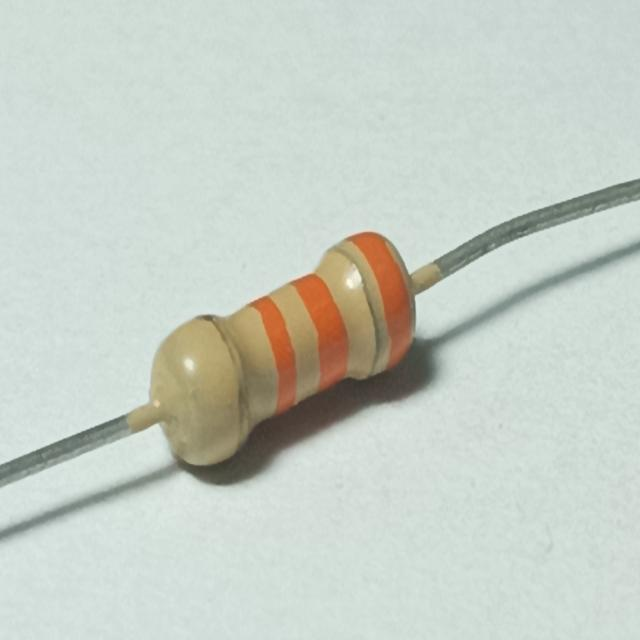33k ohms: (121, 212, 427, 486)
